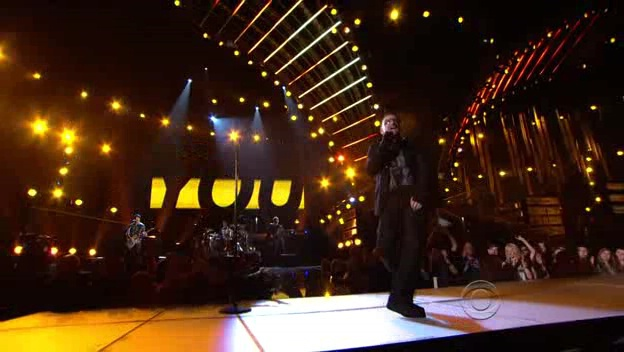person: (366, 112, 432, 224), (363, 112, 429, 224), (369, 112, 435, 224), (366, 109, 432, 221), (366, 115, 432, 227)
target_negative: (309, 13, 444, 176), (71, 128, 163, 262), (104, 200, 612, 218), (546, 166, 623, 273), (468, 340, 549, 352), (555, 95, 558, 97)
